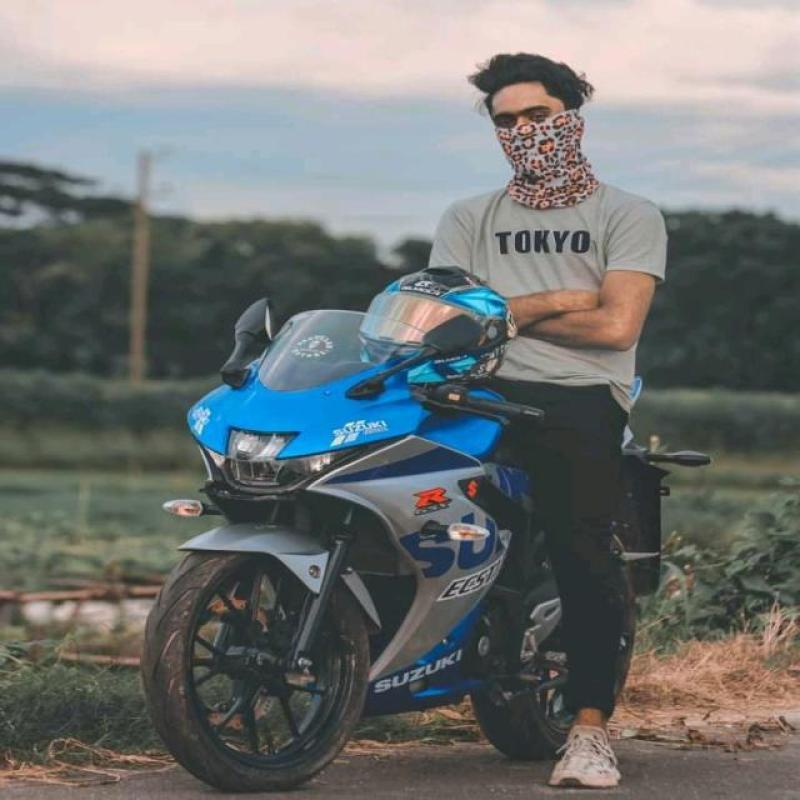nohelmet: (470, 45, 604, 186)
